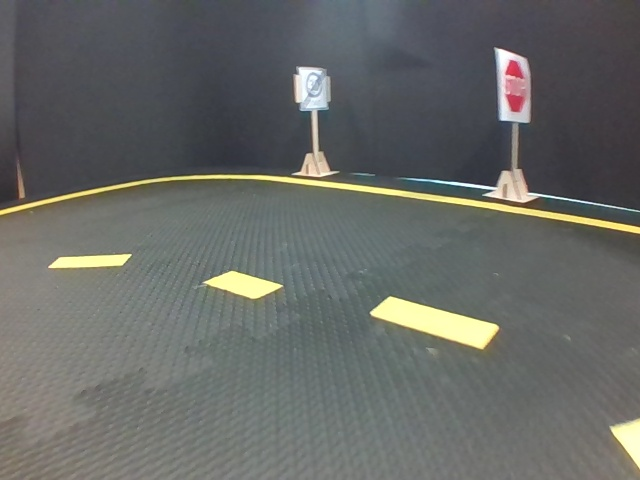no30: (297, 66, 327, 110)
stop: (496, 48, 534, 123)
